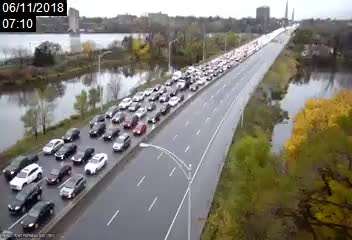congestion: (1, 133, 112, 229), (74, 101, 156, 147), (125, 82, 184, 111), (165, 70, 209, 92), (183, 61, 226, 76)
personal_car: (8, 184, 44, 215), (9, 163, 43, 189), (5, 152, 39, 177), (24, 203, 54, 230), (59, 173, 88, 200), (86, 152, 108, 176), (47, 165, 72, 184), (74, 145, 95, 164), (57, 142, 75, 162), (42, 138, 64, 154), (113, 134, 132, 151), (62, 127, 81, 143), (133, 119, 149, 136), (123, 114, 137, 130), (105, 125, 119, 141), (134, 106, 149, 120), (89, 114, 105, 127), (89, 123, 104, 136), (158, 102, 172, 115), (147, 111, 160, 124), (112, 111, 124, 124), (107, 104, 118, 118), (119, 97, 130, 110), (128, 100, 141, 111), (132, 91, 144, 101), (168, 96, 178, 107), (149, 92, 160, 102), (143, 86, 153, 96), (189, 82, 199, 91), (159, 92, 169, 101), (145, 101, 155, 110), (168, 86, 176, 95), (166, 78, 174, 86), (153, 83, 161, 90), (176, 94, 183, 101)
